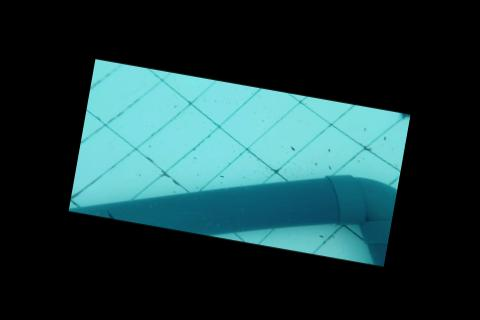keretakan: (102, 207, 117, 220)
